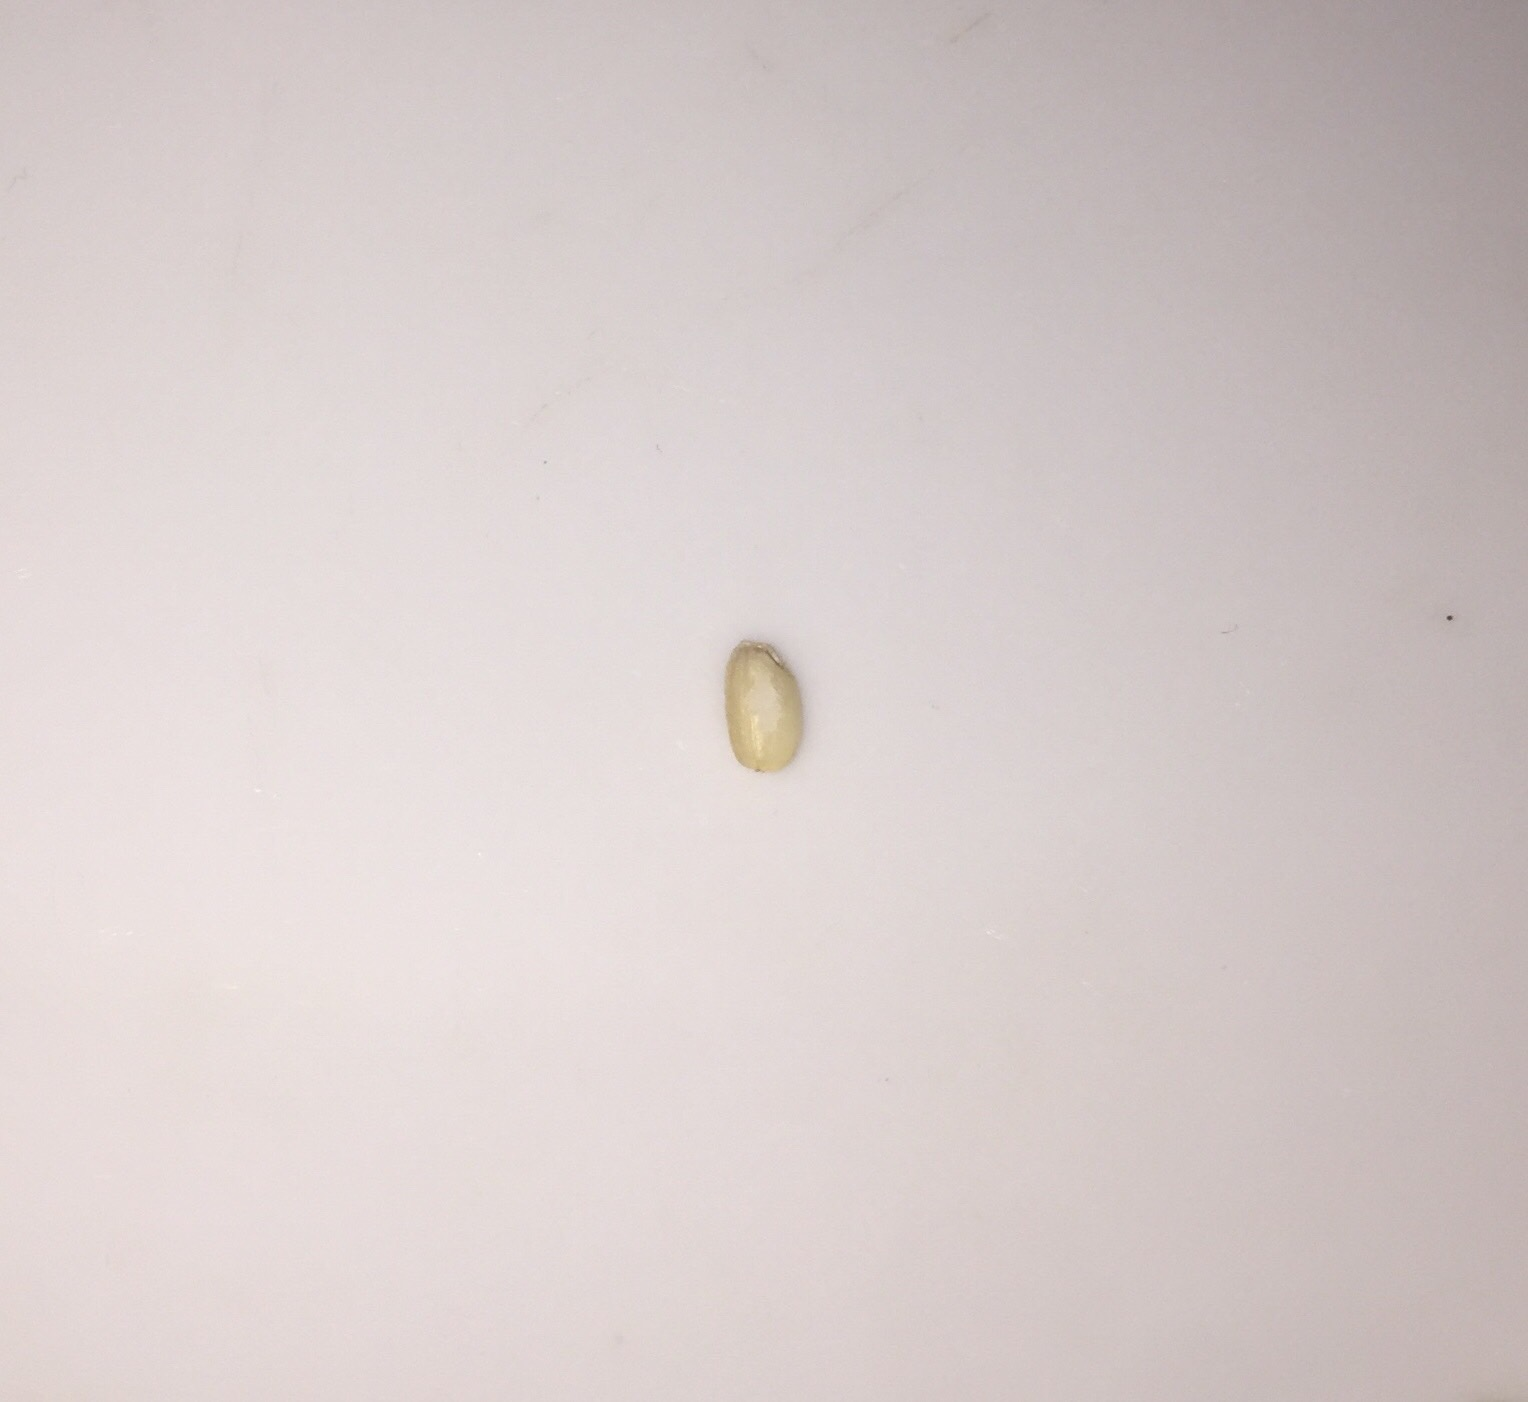Gao Lut Bac: (709, 616, 823, 796)
